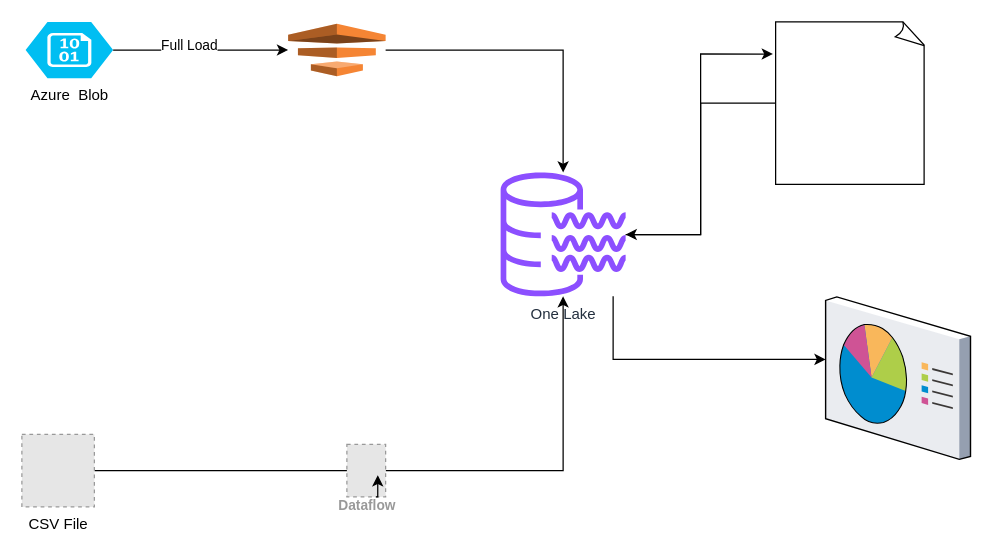
This 993x555 diagram has some shape labels left out. Grey dashed boxes stand in for pictures. The shapes that lost their labels are listed below. From the top down, each one's centre as x and y in pixels, then its label:
At point 336,49: "Pipeline".
At point 850,102: "PySpark Notebooks".
